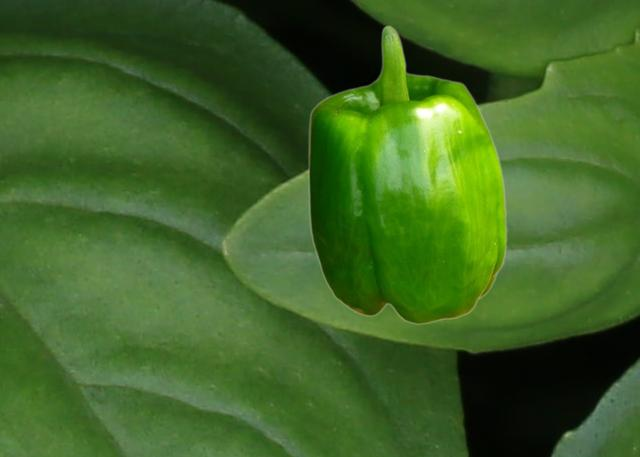bell_pepper: (307, 25, 506, 324)
